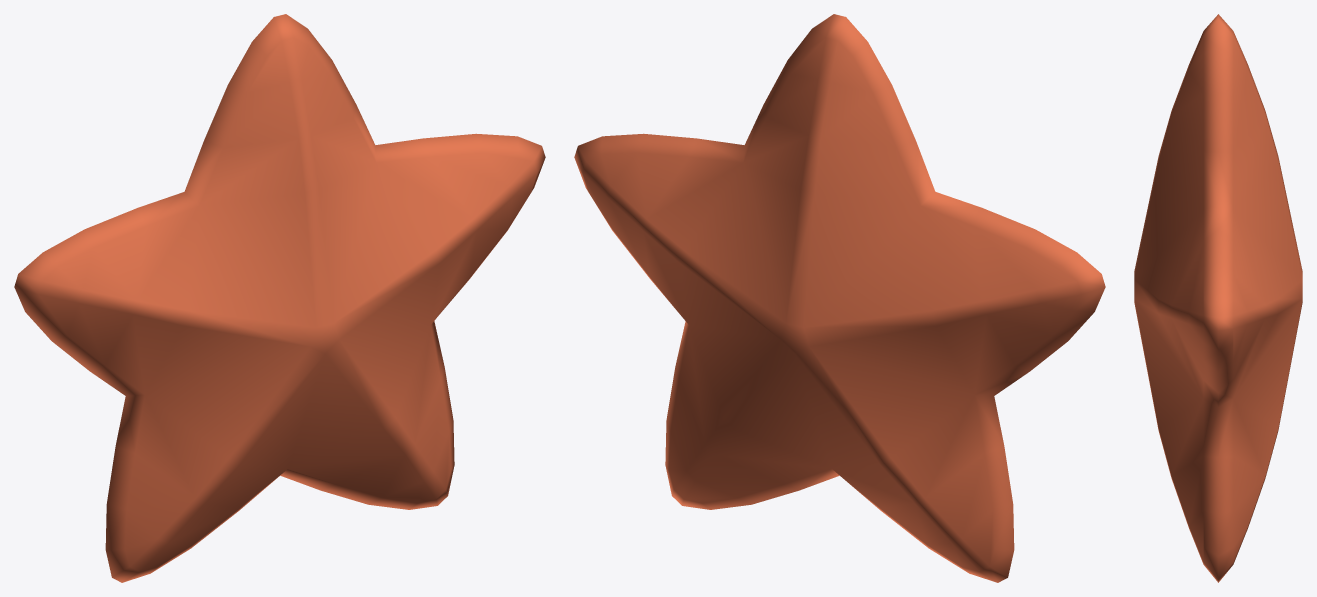
3 views of the same model, side by side, from view 1: azimuth 30°, elevation 25°; view 2: azimuth 150°, elevation 25°; view 3: azimuth 270°, elevation 25° (orthographic). The views are drawn at different scales.
Visible parts, largest first — view 1: model_1; view 2: model_1; view 3: model_1.
Boxes of the visible parts, <box> form: model_1: <box>14,14,545,582</box>; model_1: <box>574,14,1105,582</box>; model_1: <box>1134,14,1302,582</box>.
Bounding box in the file's own units: 4.48 × 4.26 × 1.32.
